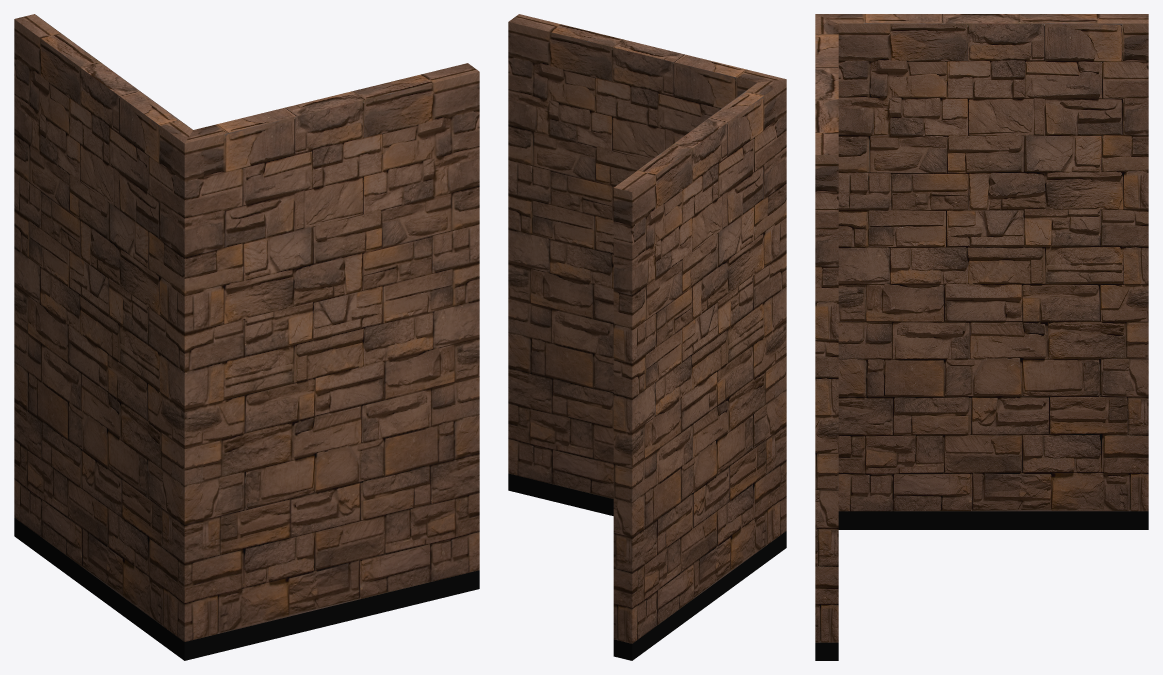
File: ARC0210016.fbx
The picture shows the model from 3 angles, left to right: view 1: azimuth 30°, elevation 25°; view 2: azimuth 150°, elevation 25°; view 3: azimuth 270°, elevation 25°; orthographic projection. The views are drawn at different scales.
Parts seen in each view (by area): view 1: smARC0210016; view 2: smARC0210016; view 3: smARC0210016.
Part boxes in pixels (<box>): smARC0210016: <box>14,14,479,660</box>; smARC0210016: <box>508,14,786,660</box>; smARC0210016: <box>815,14,1148,660</box>.
Size of the model in its own units: 196 by 328 by 196.
Materials: 1 (1 with a texture image).
